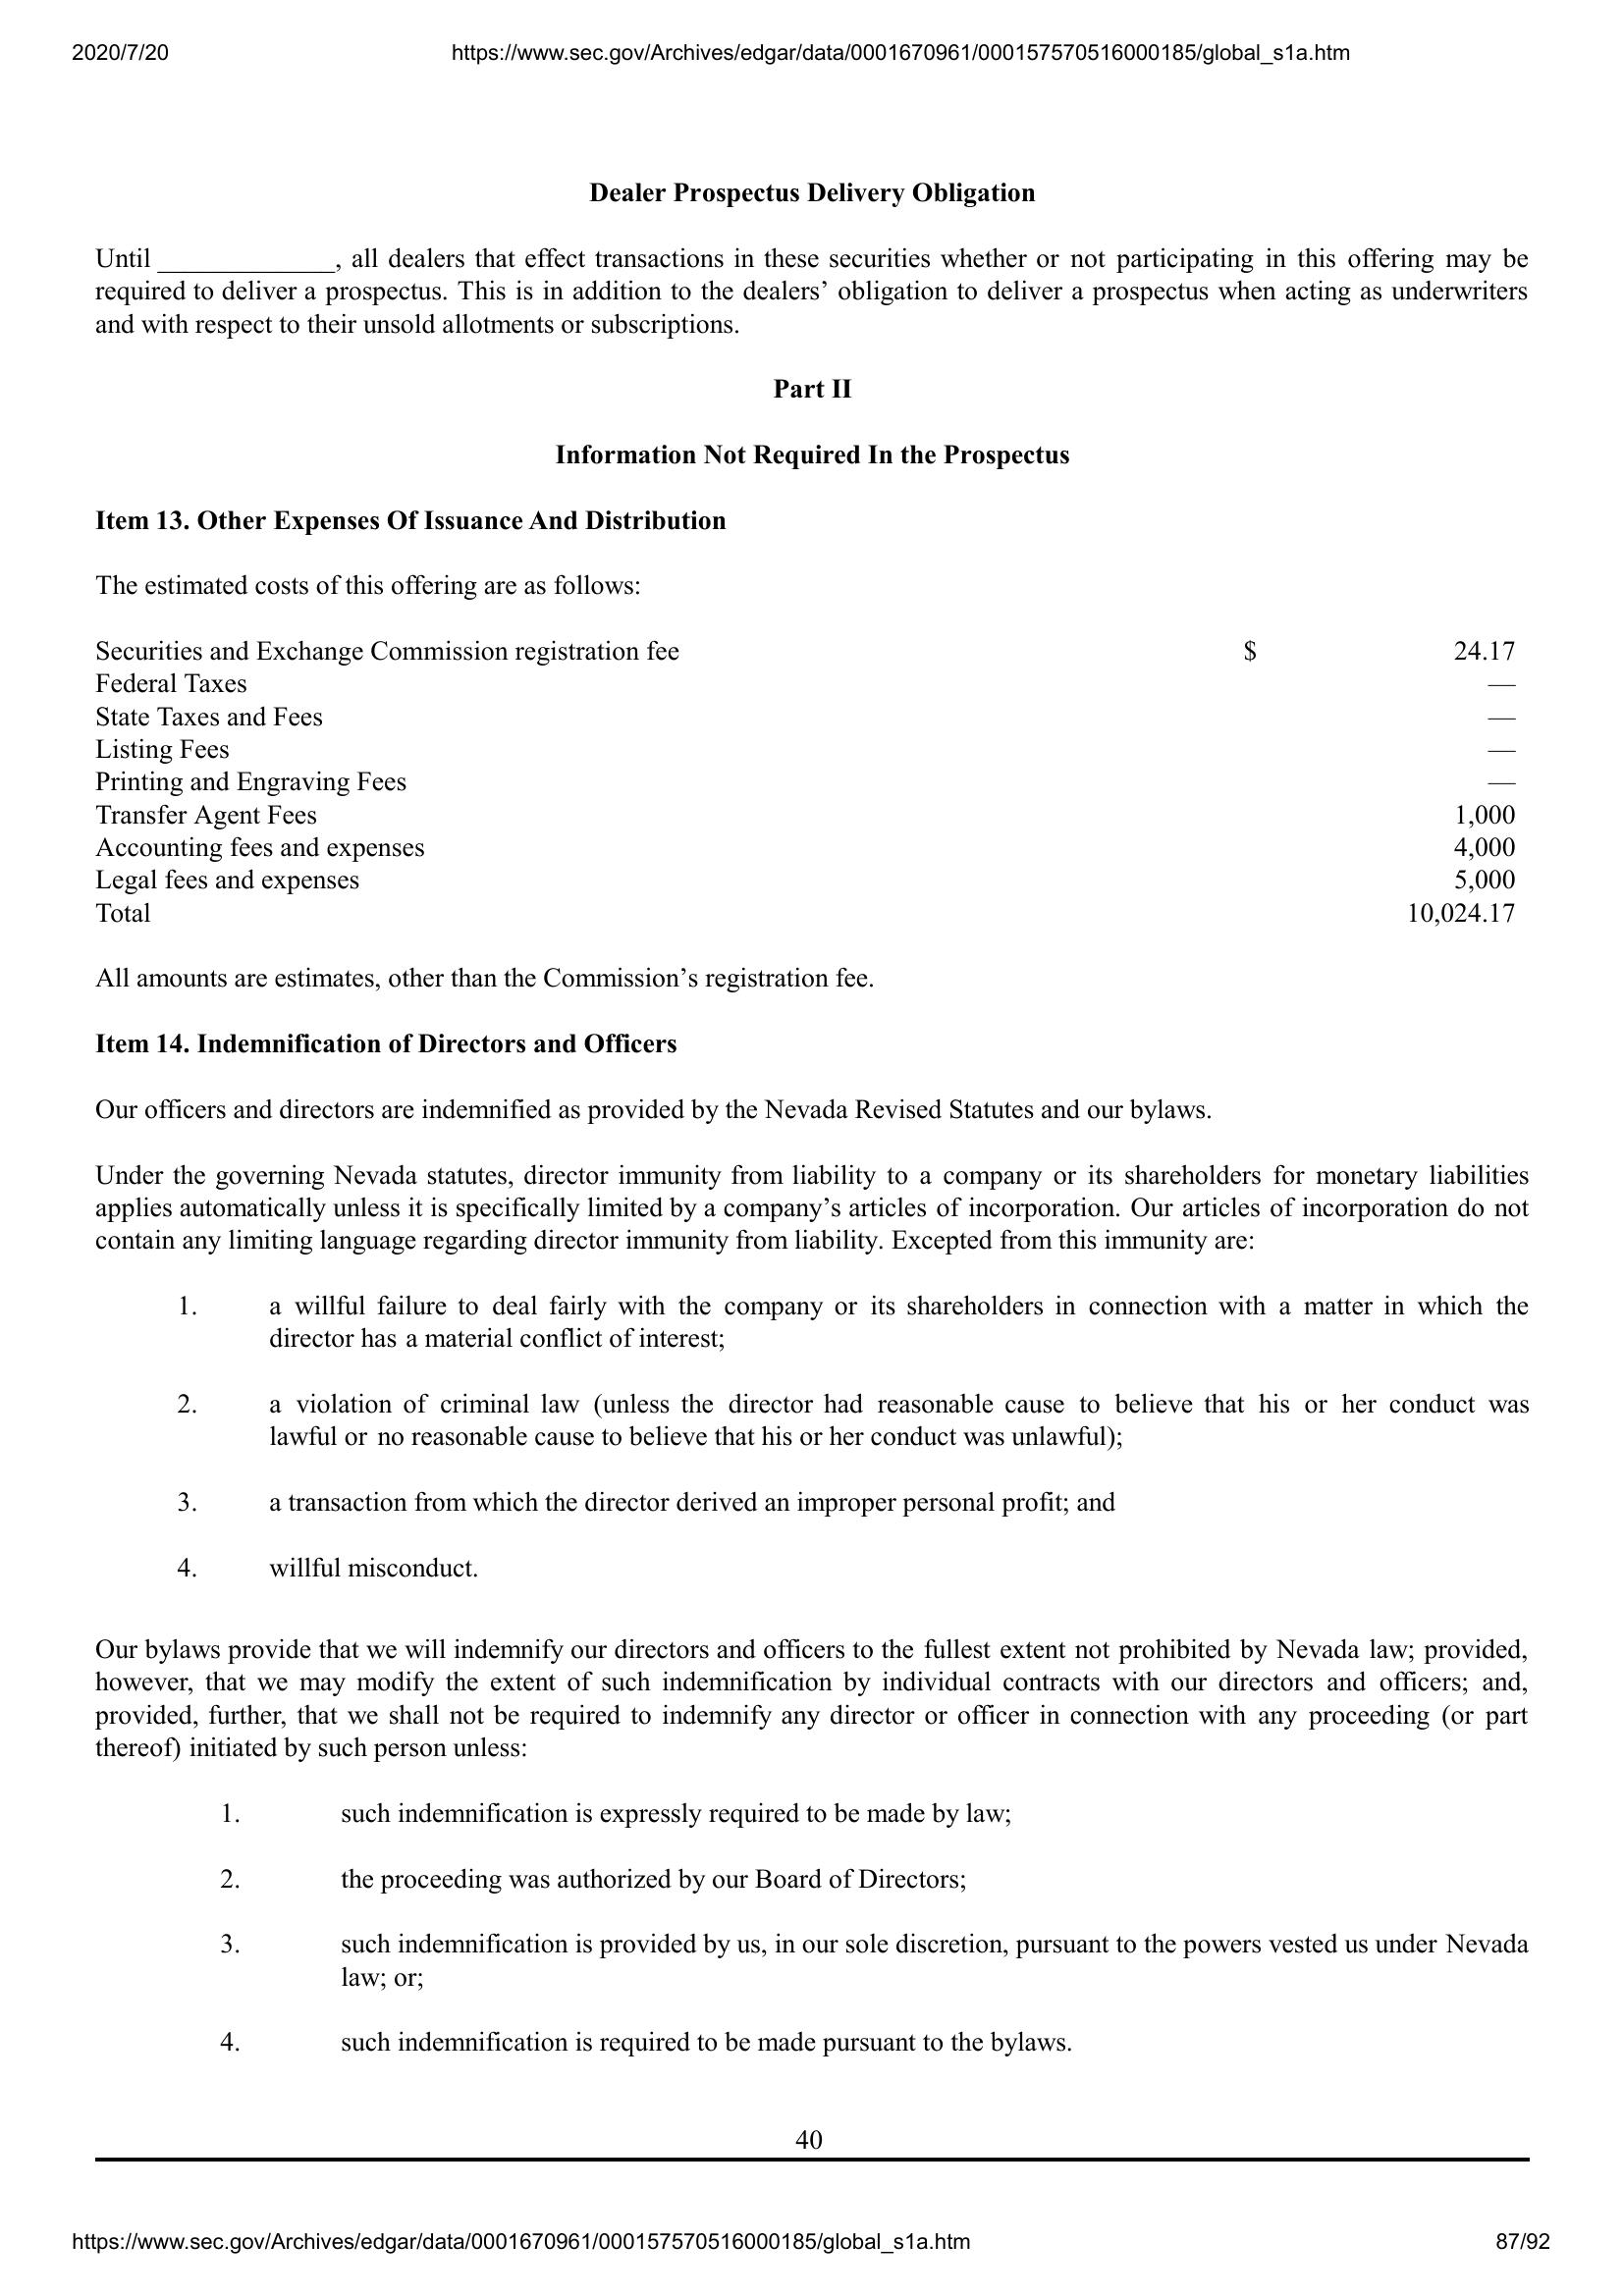table: (88, 634, 1528, 927)
